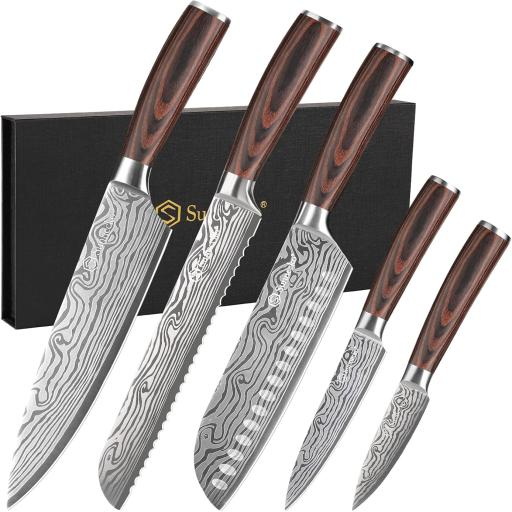knife: (1, 3, 241, 509)
